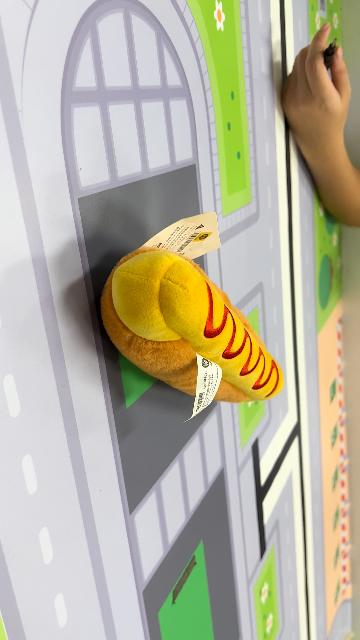hotdog: (100, 247, 286, 406)
